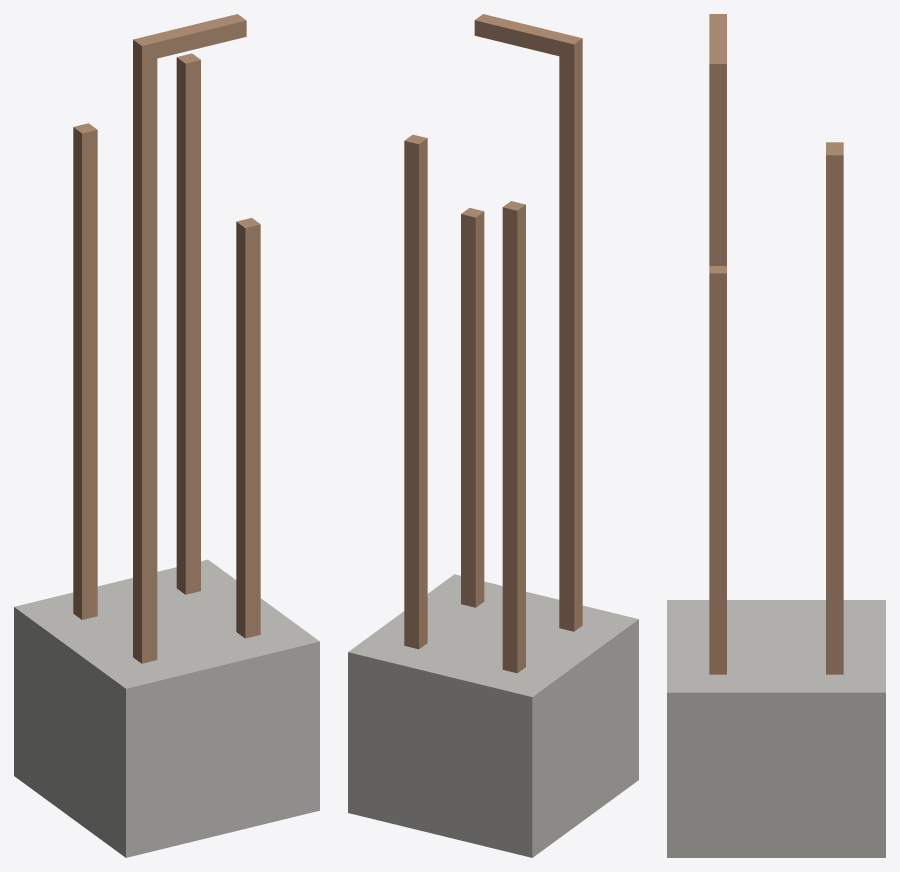
The model's file is fv_rebar.glb.
The picture shows the model from 3 angles, left to right: view 1: azimuth 30°, elevation 25°; view 2: azimuth 150°, elevation 25°; view 3: azimuth 270°, elevation 25°; orthographic projection. The views are drawn at different scales.
Parts seen in each view (by area): view 1: fv_rebar; view 2: fv_rebar; view 3: fv_rebar.
Boxes of the visible parts, x1=… form: fv_rebar: x1=14, y1=14, x2=319, y2=857; fv_rebar: x1=348, y1=14, x2=638, y2=857; fv_rebar: x1=667, y1=14, x2=885, y2=857.
Size of the model in its own units: 0.3 by 1.16 by 0.3.
